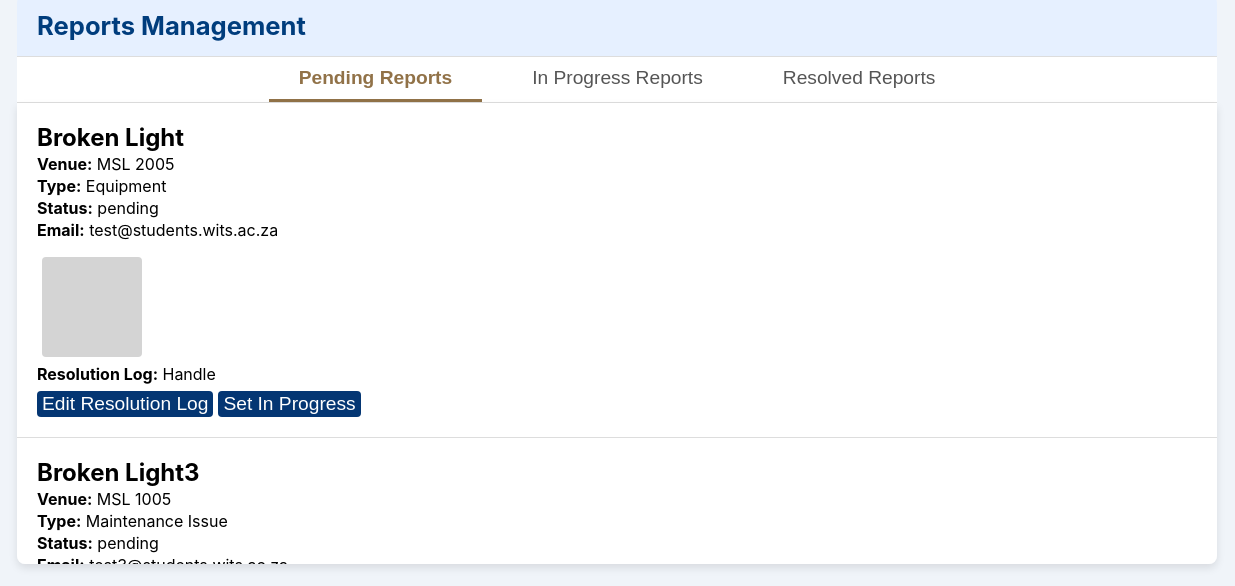
Test: ManageReports Component - Set Report to In Progress › renders reports and checks report content
This screenshot has width=1235, height=586.
Expected: the heading "Broken Light" is shown, [37,123,184,152]
Expected: the heading "Broken Light3" is shown, [37,458,200,487]
// Switch to the "In Progress" tab
Click the button "In Progress Reports": (618, 80) [502,57,733,102]
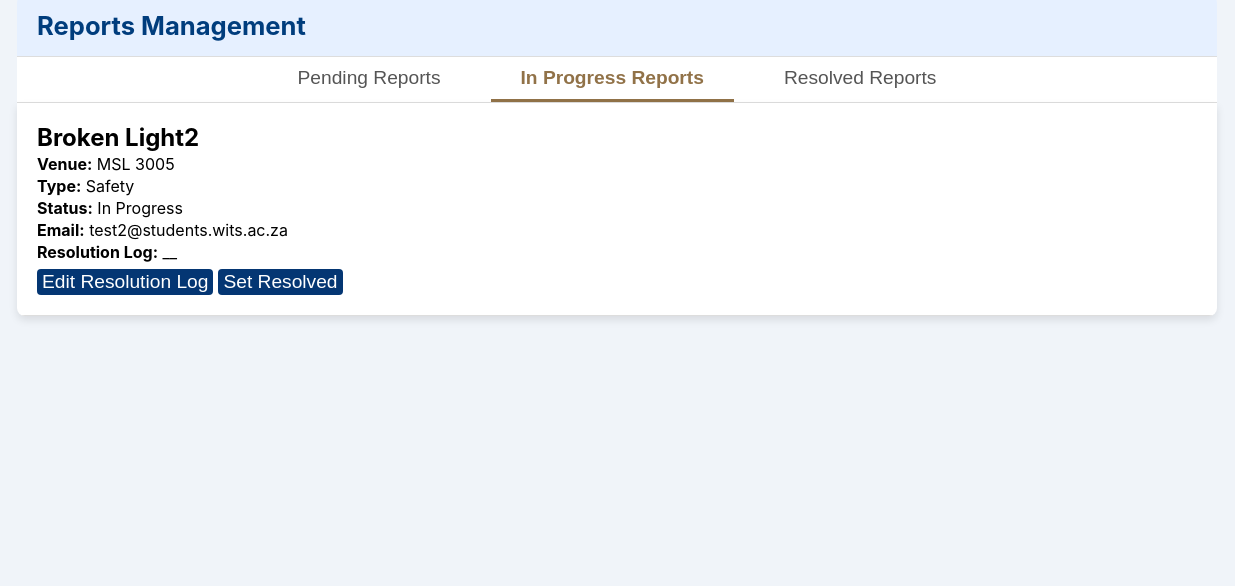
Now the heading "Broken Light2" is shown, box [37,123,199,152]
